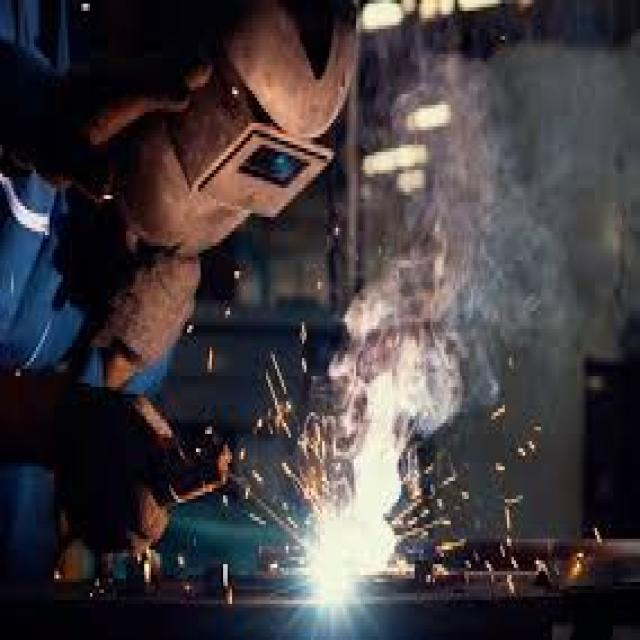welding: (312, 515, 353, 601)
